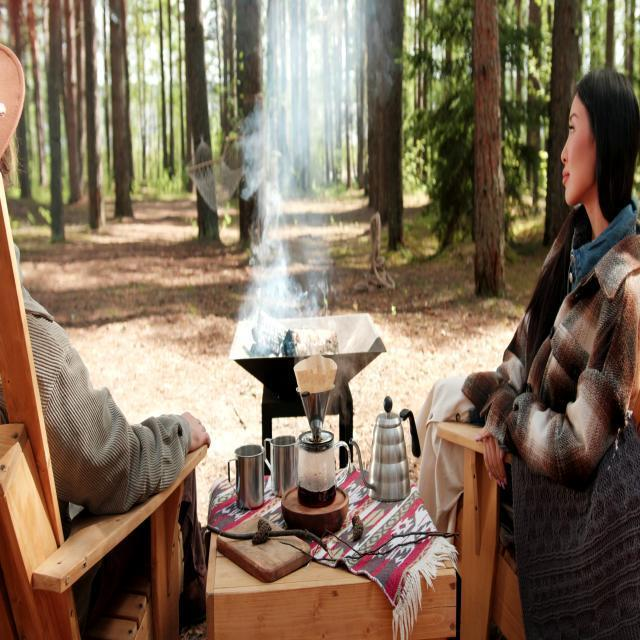Smoke: (214, 0, 381, 357)
